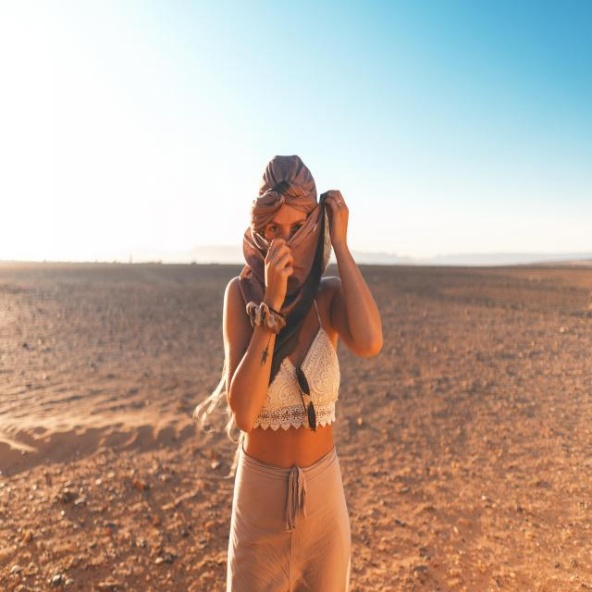Crop_Top: (242, 369, 341, 471)
Sleeveless: (319, 274, 347, 311), (222, 276, 242, 323)
low_neckline: (243, 273, 333, 426)
